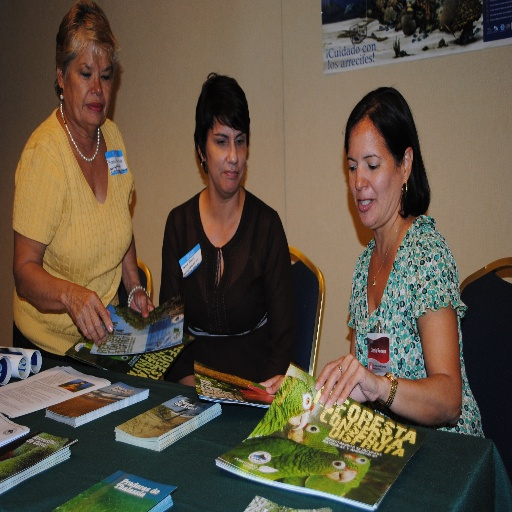hand: (314, 353, 382, 409), (45, 284, 102, 337), (129, 288, 155, 318), (257, 375, 284, 395)
